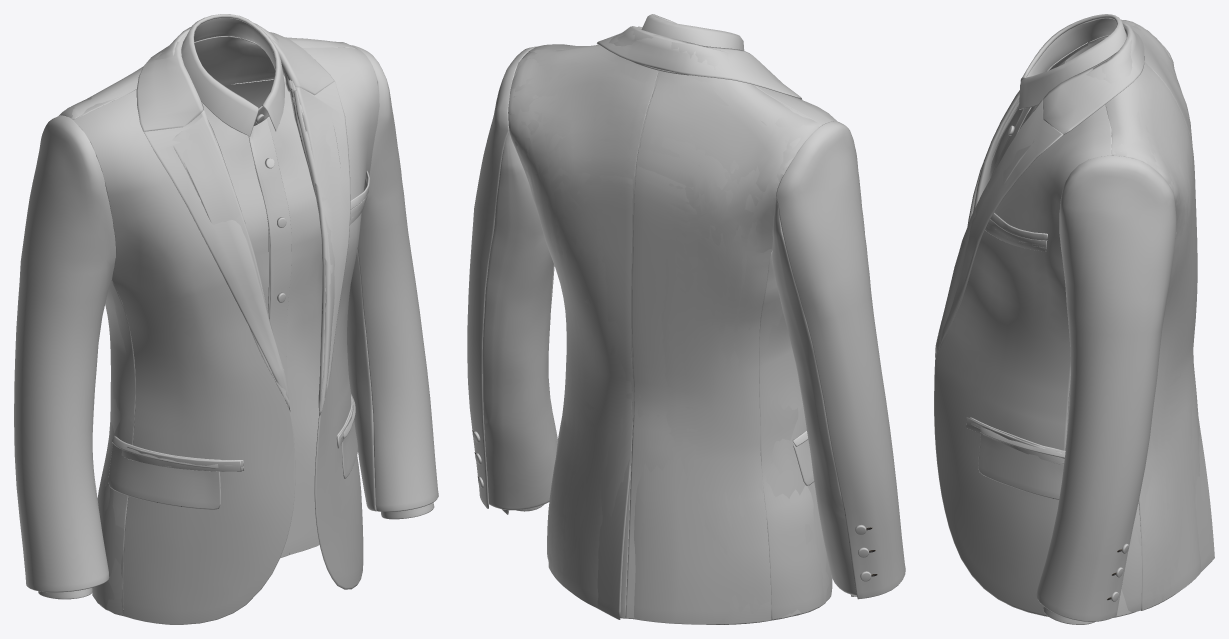
Rendered from yinglun01.fbx.
3 views of the same model, side by side, from view 1: azimuth 30°, elevation 25°; view 2: azimuth 150°, elevation 25°; view 3: azimuth 270°, elevation 25° (orthographic). The views are drawn at different scales.
Visible parts, largest first — view 1: main, polySurface15, lingzi3, lingzi2, xiakoudai4, houbei3, houbei1, houbei5, lingzi1, xiakoudai8; view 2: houbei1, main, houbei5, houbei3, lingzi3, polySurface15, lingzi1, xiakoudai4; view 3: main, houbei1, houbei3, houbei5, lingzi3, polySurface15, xiakoudai4, lingzi1, lingzi2, xiongkoudai1, xiakoudai8, xiongkoudai3.
Part boxes in pixels (left/top/right/bottom): main: left=14, top=45, right=438, bottom=624; polySurface15: left=38, top=14, right=434, bottom=599; lingzi3: left=136, top=32, right=350, bottom=415; lingzi2: left=150, top=29, right=340, bottom=415; xiakoudai4: left=108, top=394, right=357, bottom=509; houbei3: left=59, top=39, right=354, bottom=610; houbei1: left=71, top=37, right=355, bottom=613; houbei5: left=62, top=36, right=356, bottom=615; lingzi1: left=155, top=23, right=334, bottom=415; xiakoudai8: left=121, top=401, right=353, bottom=471; houbei1: left=509, top=44, right=831, bottom=624; main: left=467, top=44, right=905, bottom=599; houbei5: left=508, top=51, right=831, bottom=624; houbei3: left=508, top=51, right=829, bottom=619; lingzi3: left=597, top=26, right=802, bottom=100; polySurface15: left=502, top=14, right=856, bottom=596; lingzi1: left=609, top=26, right=729, bottom=70; xiakoudai4: left=792, top=430, right=814, bottom=485; main: left=934, top=19, right=1176, bottom=621; houbei1: left=1105, top=20, right=1201, bottom=612; houbei3: left=1066, top=20, right=1214, bottom=612; houbei5: left=1064, top=30, right=1199, bottom=617; lingzi3: left=935, top=25, right=1144, bottom=359; polySurface15: left=989, top=14, right=1126, bottom=624; xiakoudai4: left=978, top=427, right=1065, bottom=499; lingzi1: left=938, top=21, right=1134, bottom=351; lingzi2: left=935, top=54, right=1132, bottom=358; xiongkoudai1: left=985, top=219, right=1047, bottom=251; xiakoudai8: left=966, top=417, right=1064, bottom=464; xiongkoudai3: left=990, top=213, right=1047, bottom=240.
Bounding box in the file's own units: 55.42 × 72.11 × 33.99.
